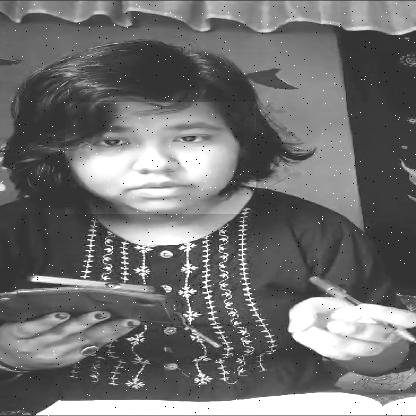Normal: (65, 102, 256, 214)
